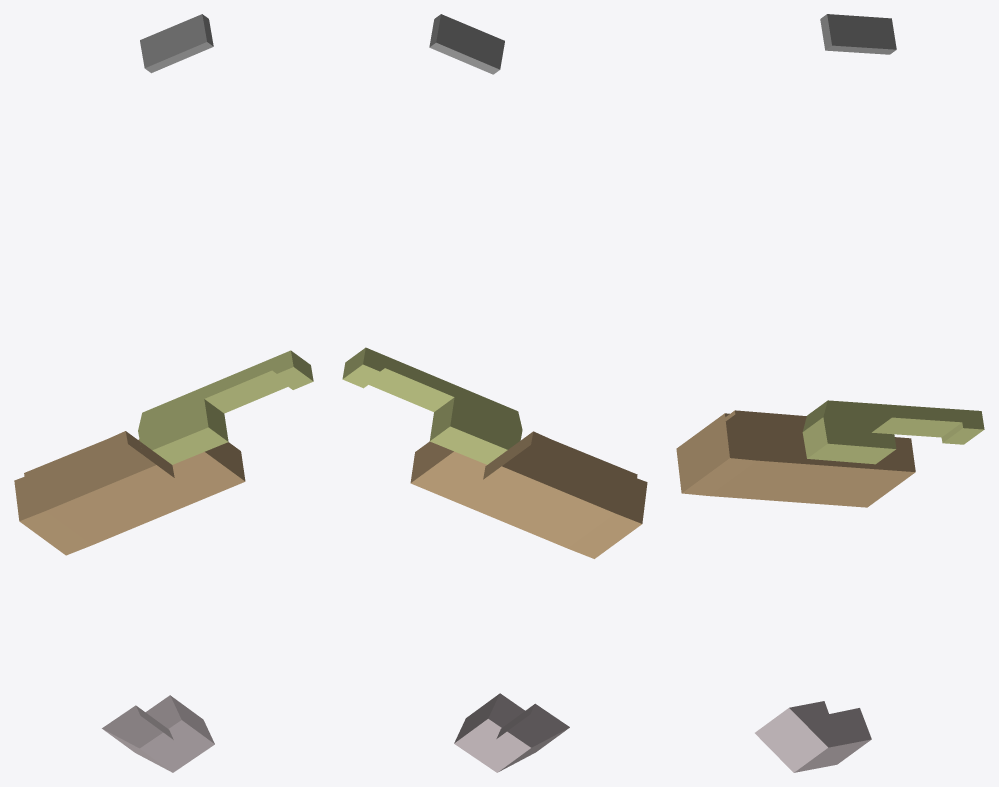
3 views of the same model, side by side, from view 1: azimuth 30°, elevation 25°; view 2: azimuth 150°, elevation 25°; view 3: azimuth 330°, elevation 25° (orthographic). The views are drawn at different scales.
Parts seen in each view (by area): view 1: 0_3_0_2_1_1_1; view 2: 0_3_0_2_1_1_1; view 3: 0_3_0_2_1_1_1.
Part boxes in pixels (box(x1,y1,x2,y2)): 0_3_0_2_1_1_1: box(14, 14, 313, 772); 0_3_0_2_1_1_1: box(342, 14, 647, 772); 0_3_0_2_1_1_1: box(676, 14, 984, 772).
Size of the model in its own units: 68.74 by 178 by 21.
